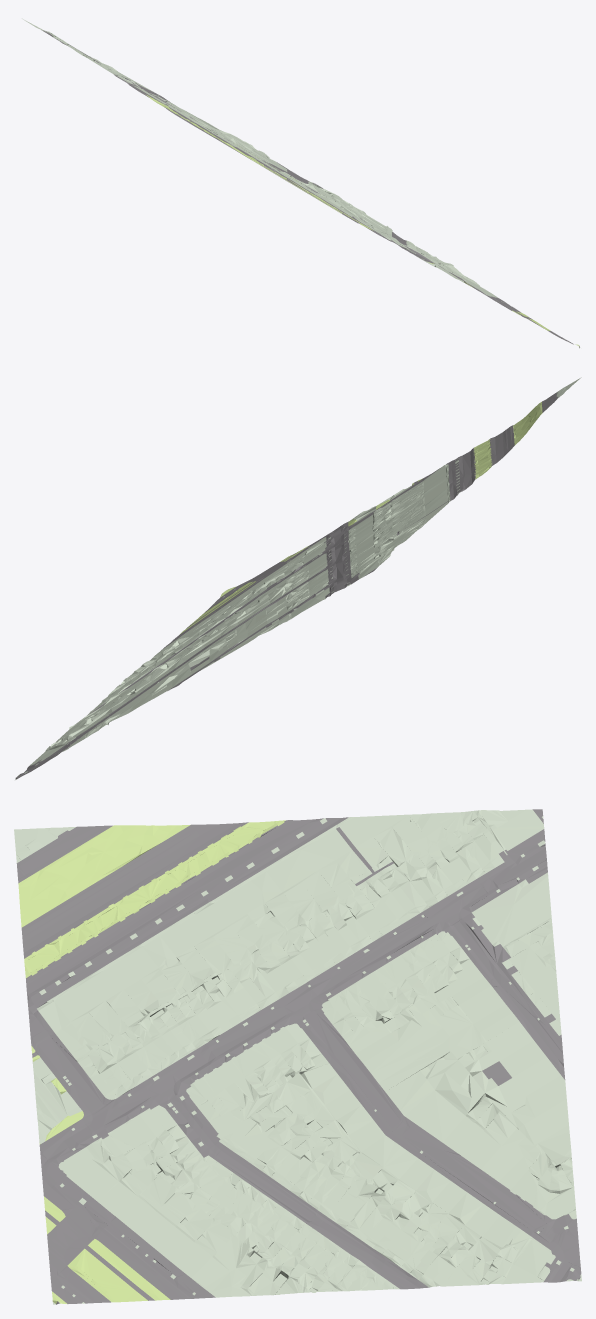
3 views of the same model, one above another, from view 1: azimuth 30°, elevation 25°; view 2: azimuth 150°, elevation 25°; view 3: azimuth 270°, elevation 25° (orthographic). The views are drawn at different scales.
Bounding box in the file's own units: 218 × 157 × 267.
